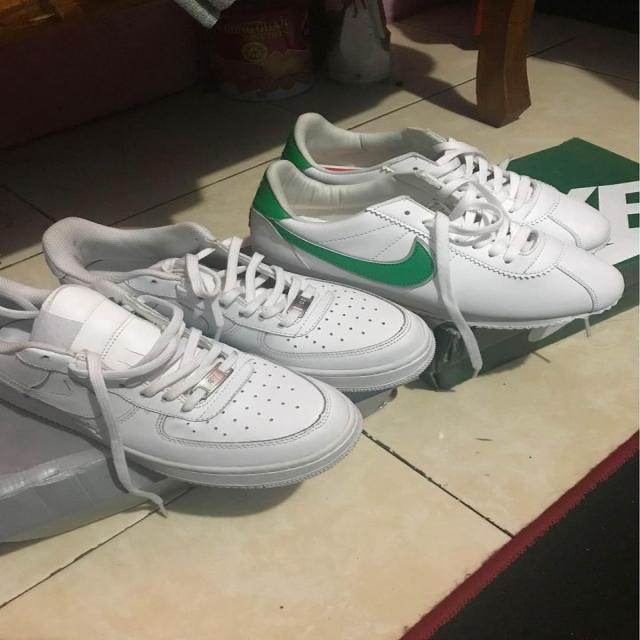nike fake air force: (0, 276, 365, 492), (21, 208, 448, 392)
